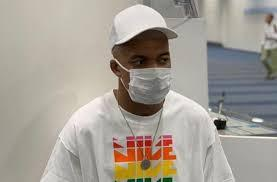Wearing Mask: (102, 7, 184, 112)
